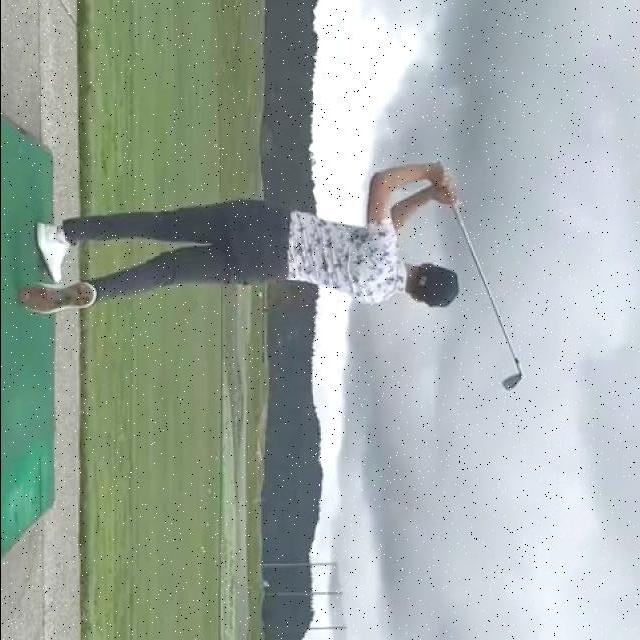golf club-handle: (434, 160, 527, 394)
golf club-head: (500, 375, 521, 392)
